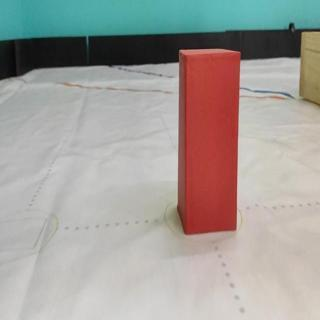redbox: (177, 47, 241, 236)
